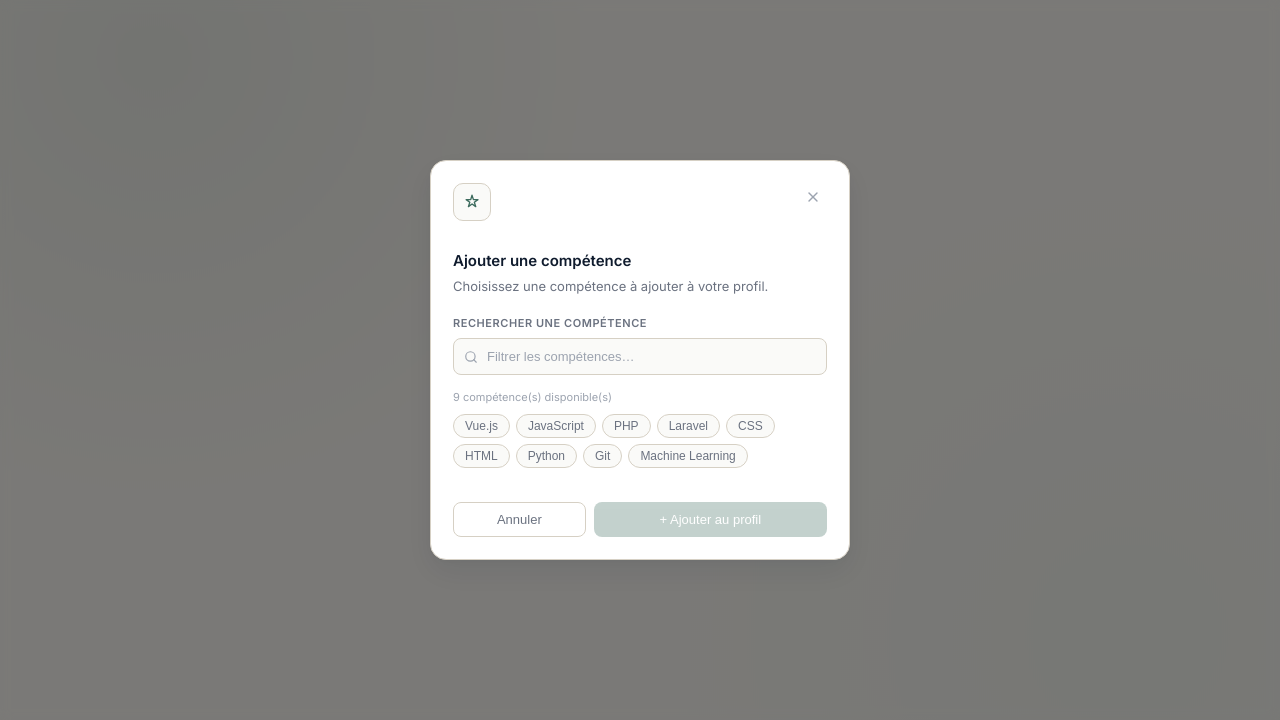
Test: SkillModal.vue › Soumission › affiche le message de succès après soumission
The image size is (1280, 720).
Step 1. Click the button with class "skill-tag-btn" showing "Vue.js" → click(481, 426), box [453,414,510,438]
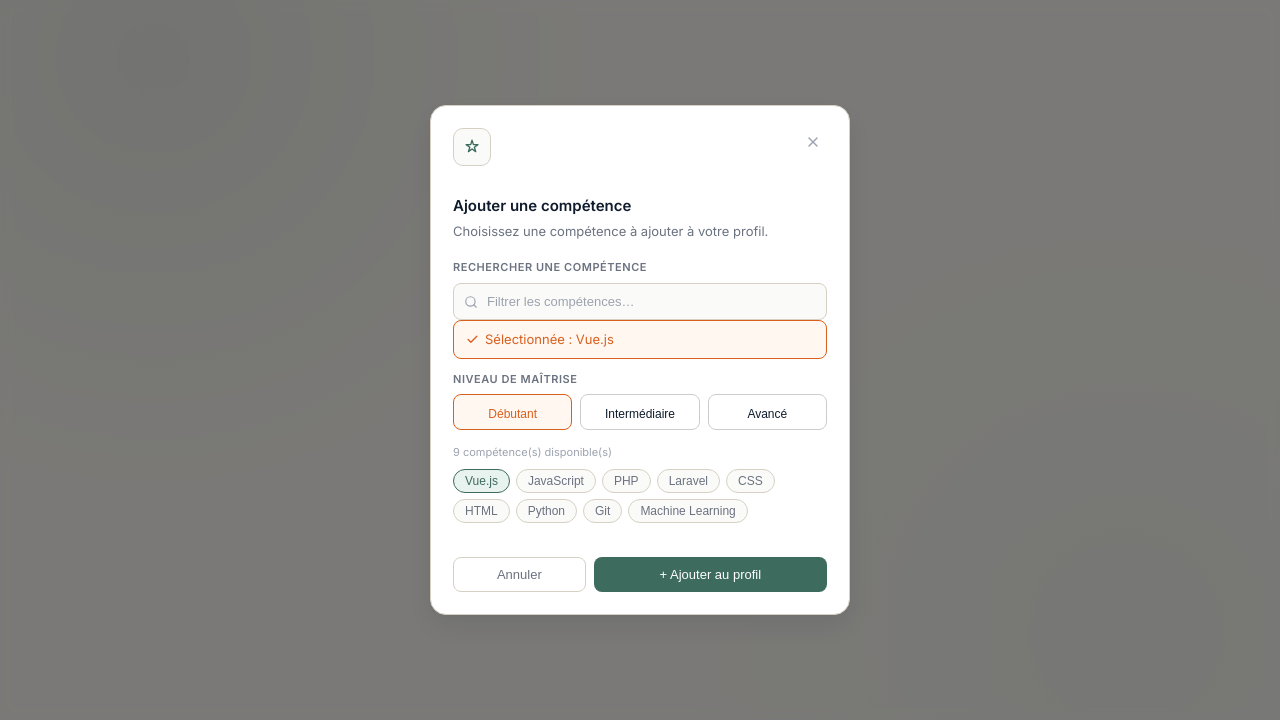
Step 2. Click the button with class "skill-btn-submit" → click(710, 574), box [594,557,827,592]
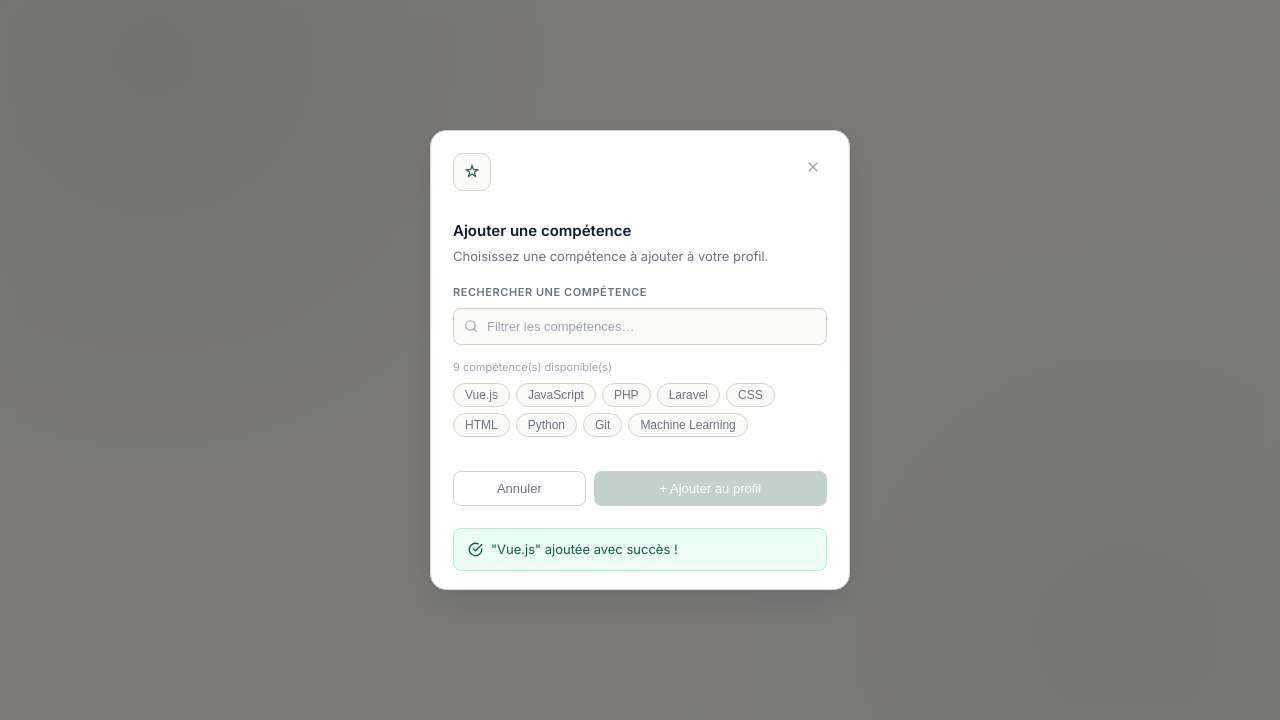
Result: the element with class "skill-success" is shown at [453,528,827,571]
Result: the element with class "skill-success" shows "Vue.js" at [491,541,678,557]
